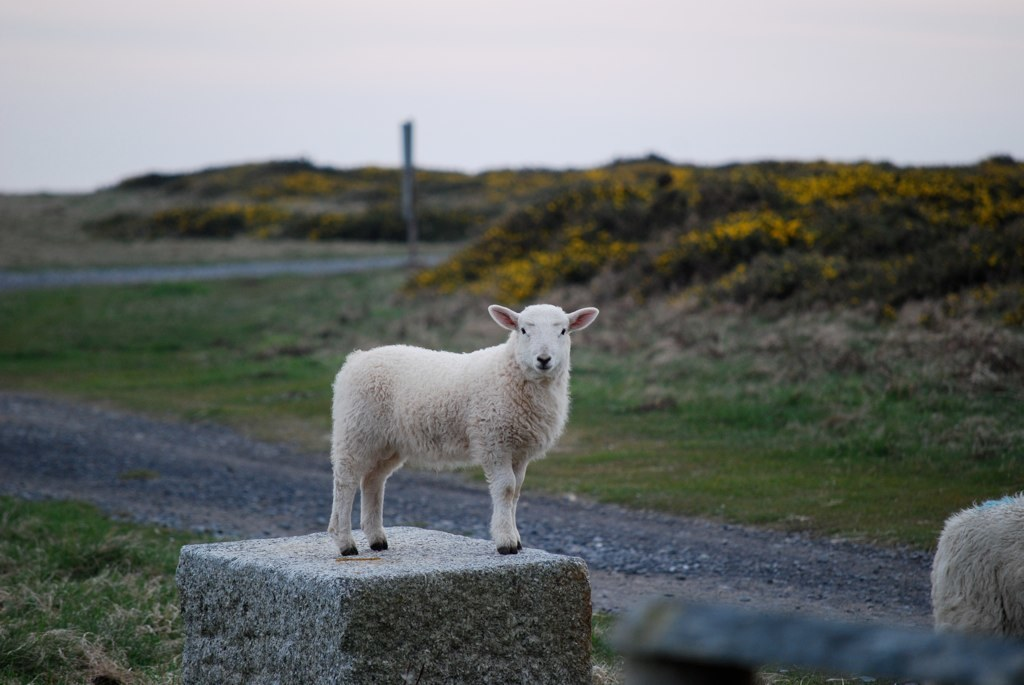sheep: (325, 305, 595, 558)
